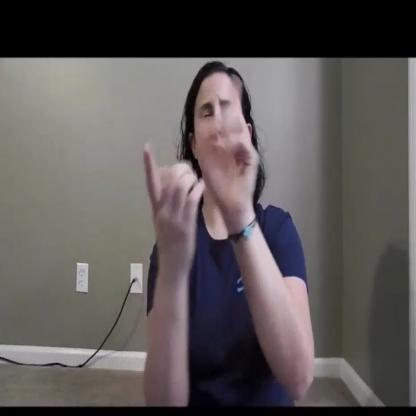NiceToMeetYou: (145, 53, 280, 247)
